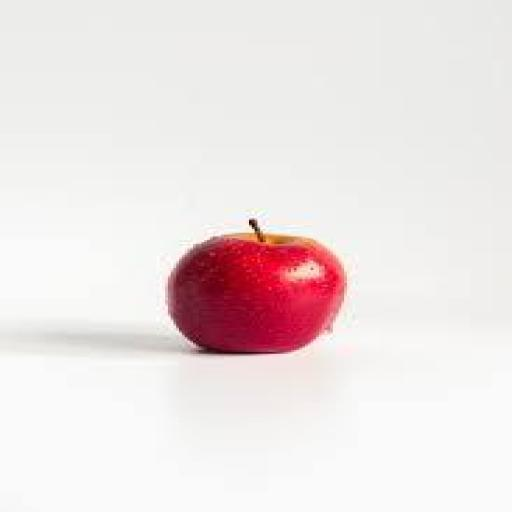apple: (168, 220, 346, 353)
